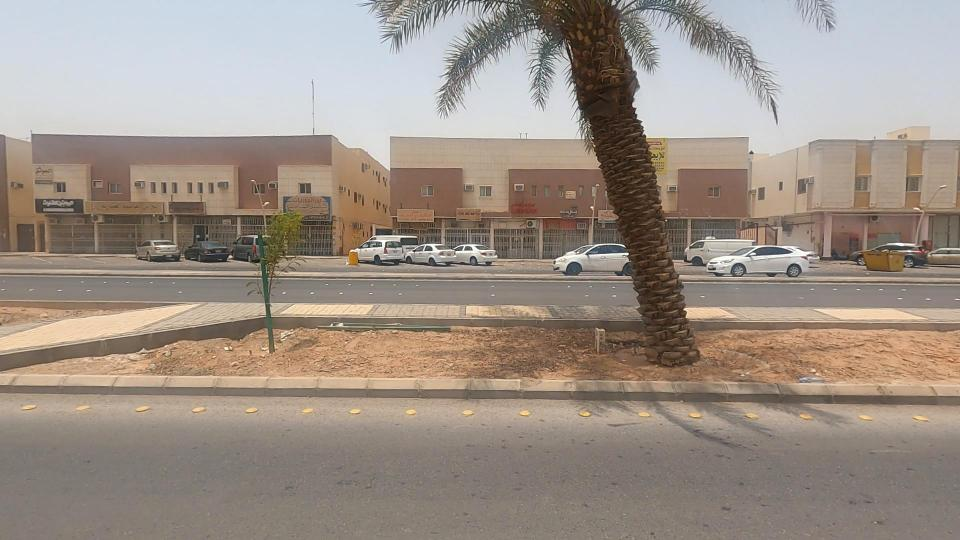BAD_BILLBOARD: (41, 176, 201, 239), (359, 188, 465, 241), (135, 186, 233, 228)
CLUTTER_SIDEWALK: (61, 256, 731, 416), (666, 277, 960, 416)
GARBAGE: (271, 311, 524, 344), (259, 303, 309, 363)
